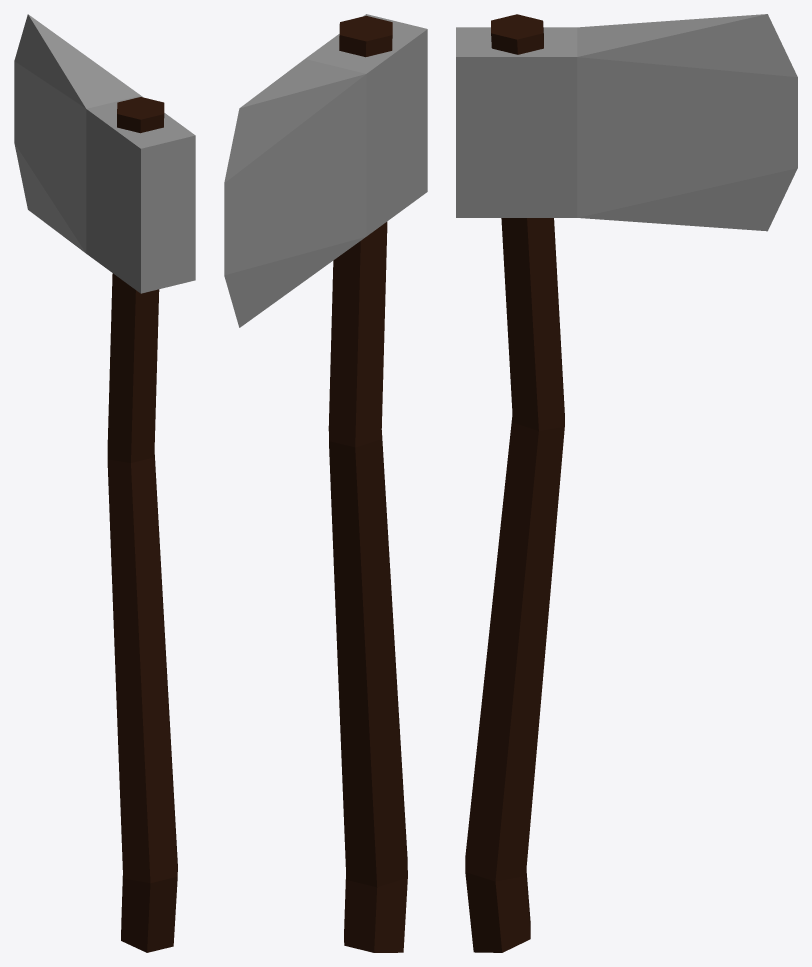
The model's file is Set-Dressing-Axe.FBX.
3 renders of one model, left to right at view 1: azimuth 30°, elevation 25°; view 2: azimuth 150°, elevation 25°; view 3: azimuth 270°, elevation 25°, orthographic. The views are drawn at different scales.
Visible parts, largest first — view 1: Set-Dressing-Axe; view 2: Set-Dressing-Axe; view 3: Set-Dressing-Axe.
Part boxes in pixels (x1=…): Set-Dressing-Axe: x1=14, y1=14, x2=195, y2=952; Set-Dressing-Axe: x1=224, y1=14, x2=427, y2=952; Set-Dressing-Axe: x1=456, y1=14, x2=797, y2=952.
Size of the model in its own units: 0.7 by 10.25 by 3.41.
